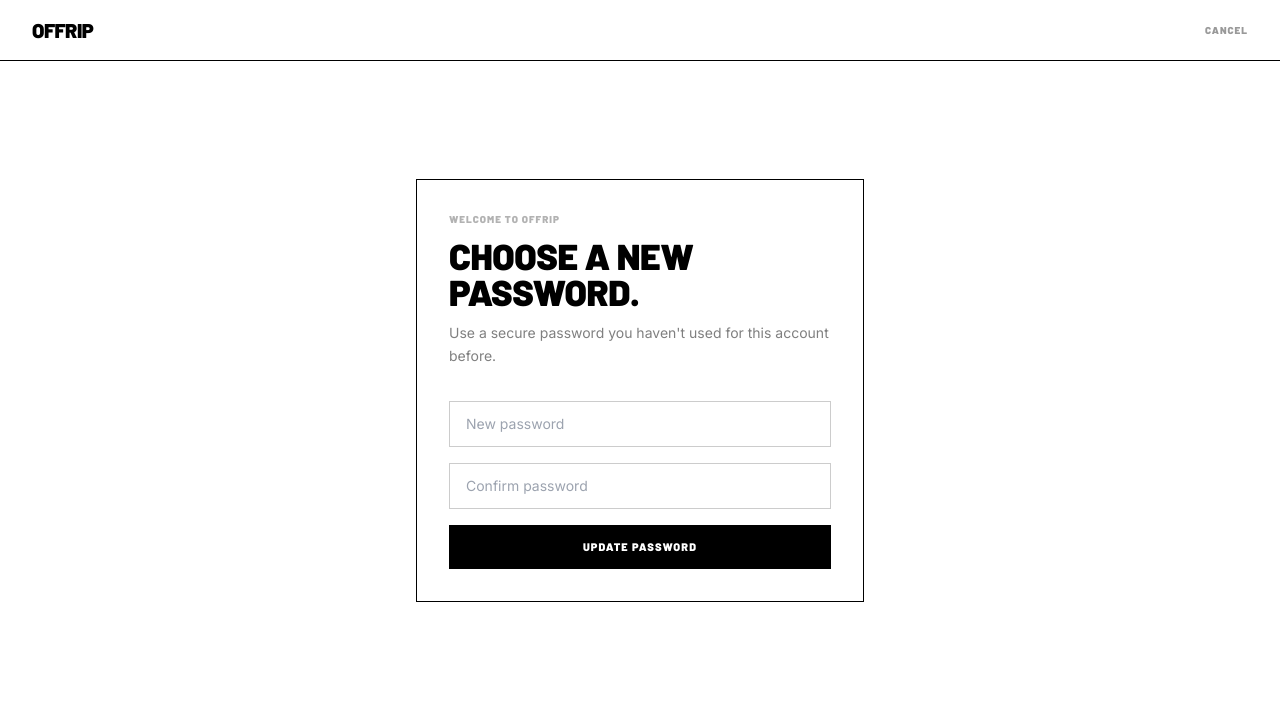
Test: reset password › shows a server password-policy error without signing out
The image size is (1280, 720).
In the password field labelled "New password": [640, 424] box [449,400,831,446], type "invalid-password"
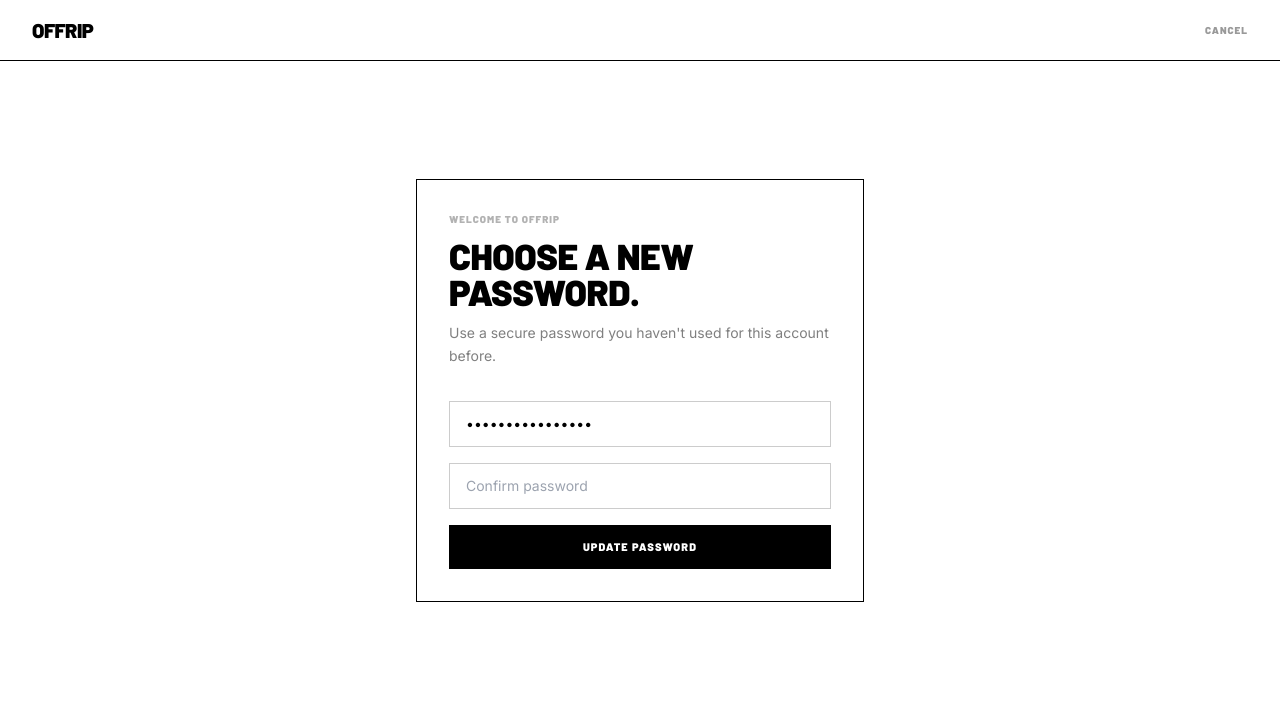
In the password field labelled "Confirm password": [640, 486] box [449,462,831,508], type "invalid-password"
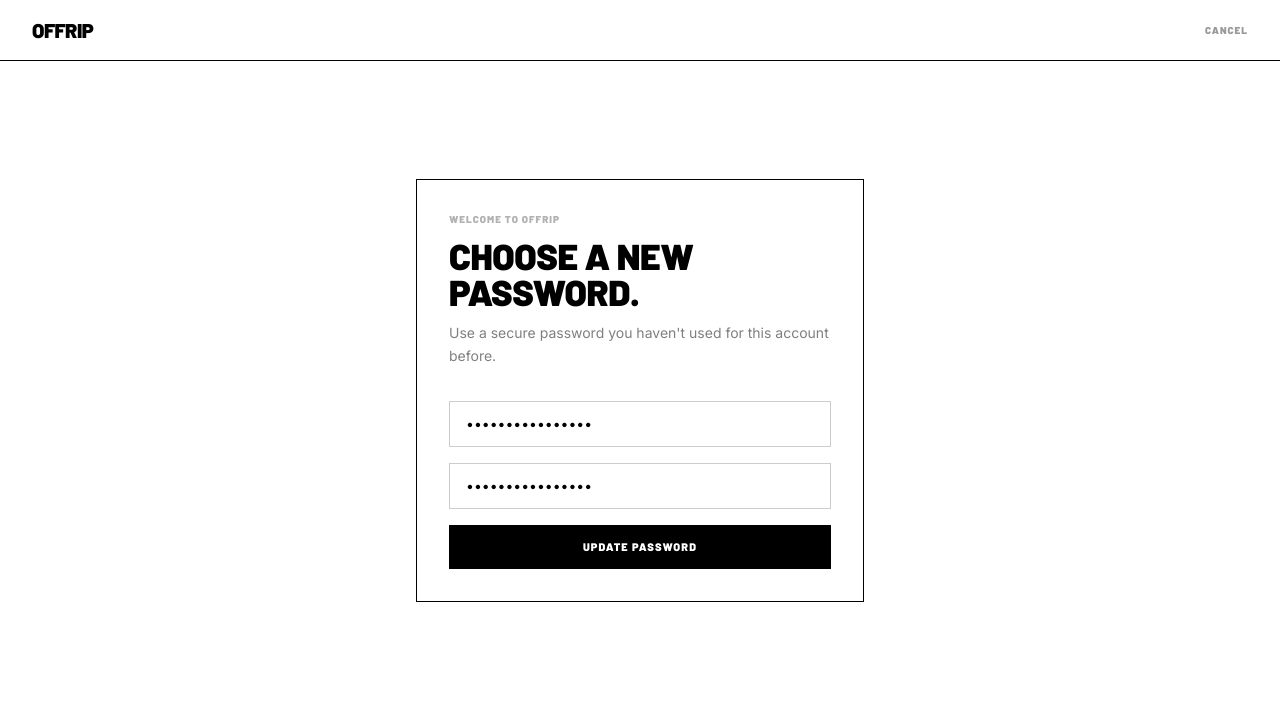
Submit the form "Update password", box [449,400,831,569]
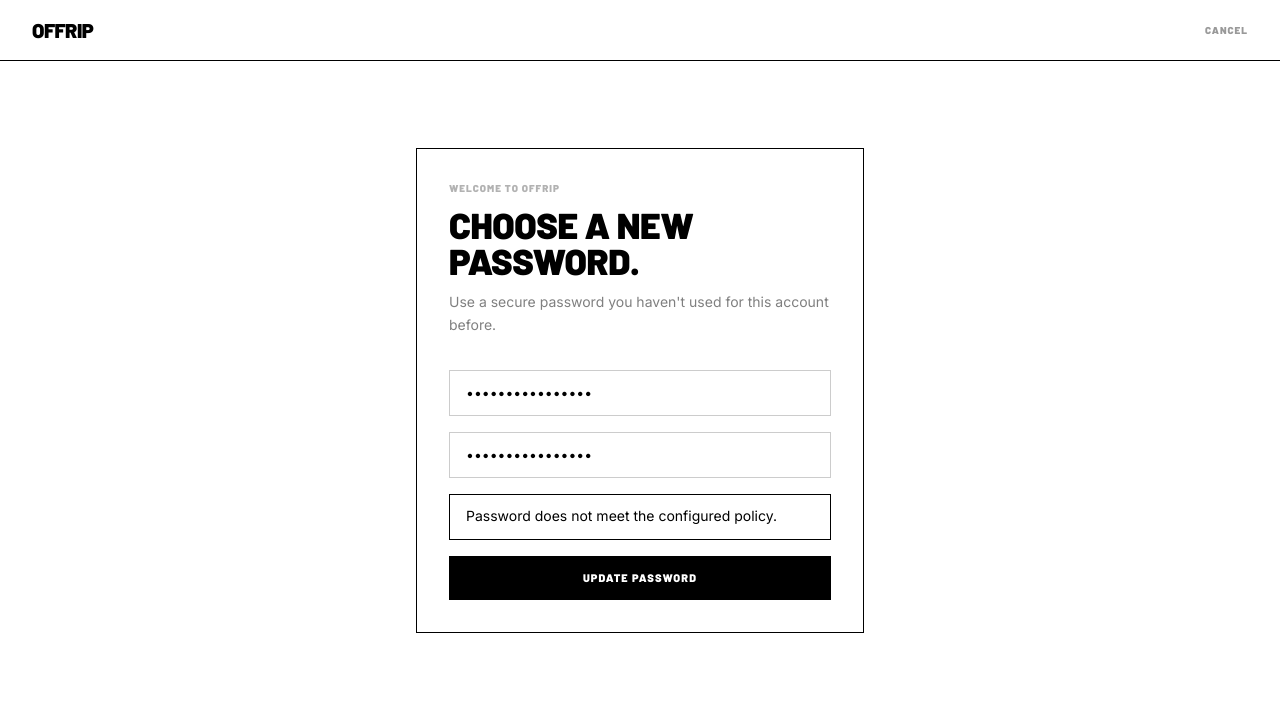
expect the message reads "Password does not meet the configured policy.": met, box [466,508,777,524]
